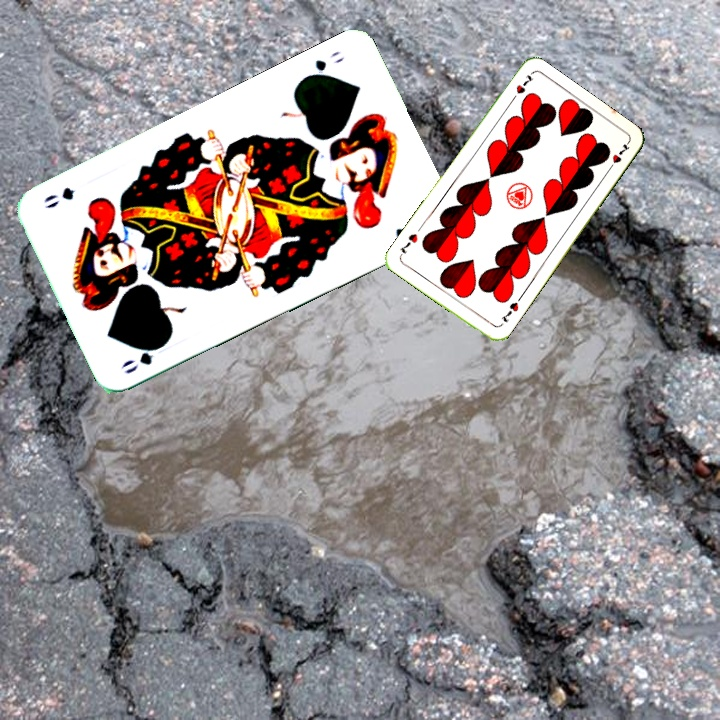GO: (118, 337, 171, 377), (298, 46, 348, 83)
H7: (506, 70, 536, 105), (497, 298, 521, 325)
